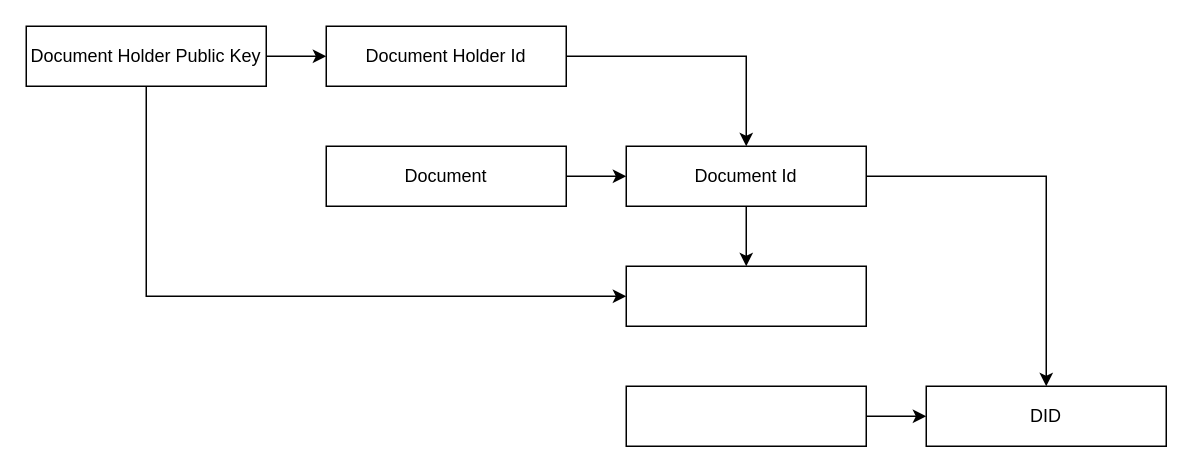
The diagram is 1193 pixels wide and 473 high, and some of its shapes have lost their labels. Here are the shapes that lost their labels. From the top down, the centre of each, then its label:
At point 745,295: "Document Self-signature".
At point 745,415: "Issuer Id".
